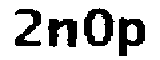0: (83, 2, 115, 50)
2: (15, 6, 43, 50)
n: (46, 15, 79, 54)
p: (117, 13, 146, 60)
